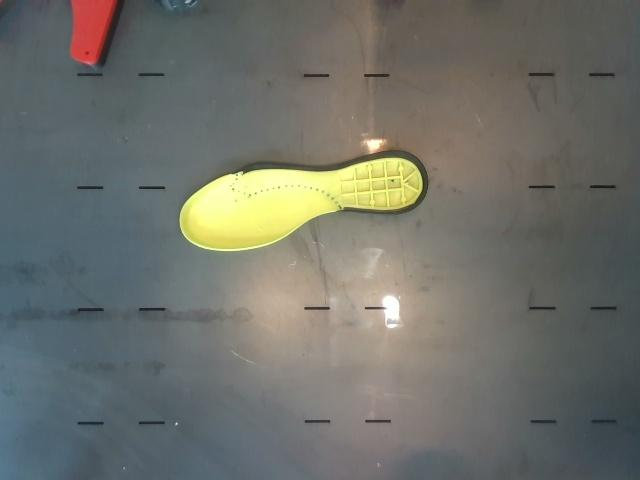shoes: (181, 151, 428, 250)
